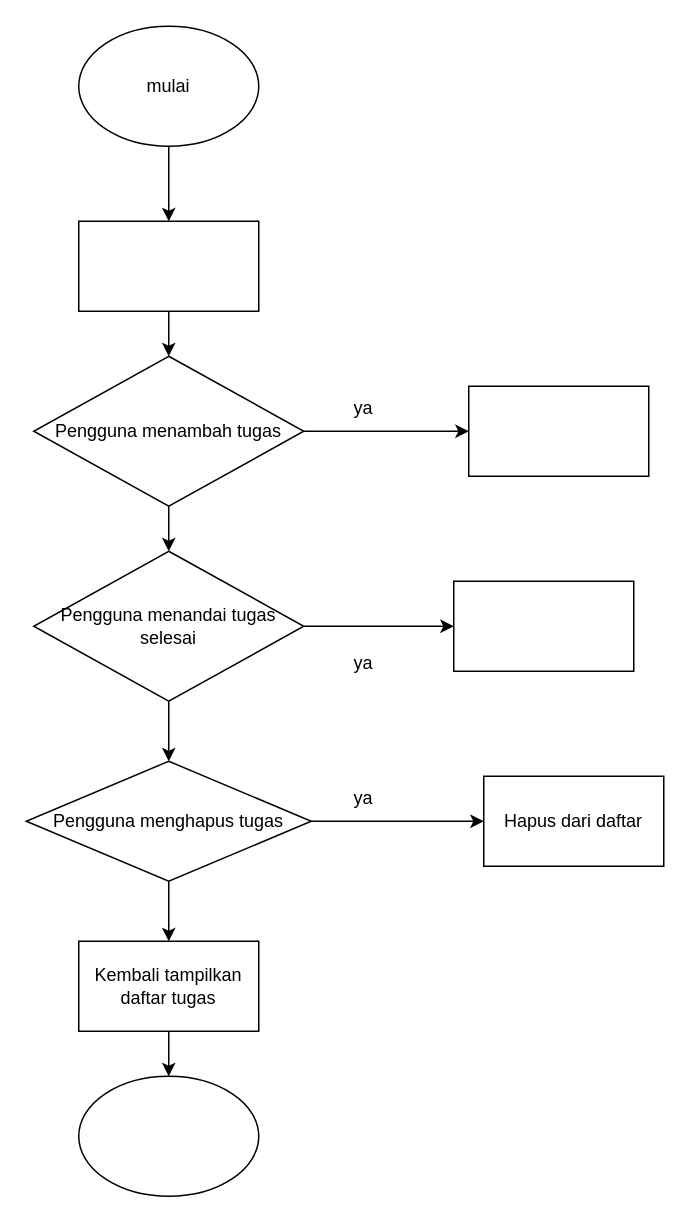
Image size: 690x1223. Some labels were removed from this diagram. The shapes that lost their labels are listed below. From the top down, each one's box as (x1, y1, x2, y2) in pixels, then its label:
(77, 220, 259, 311): tampilkan daftar tugas
(467, 385, 649, 476): tambag tugas
(452, 580, 634, 671): Update status tugas
